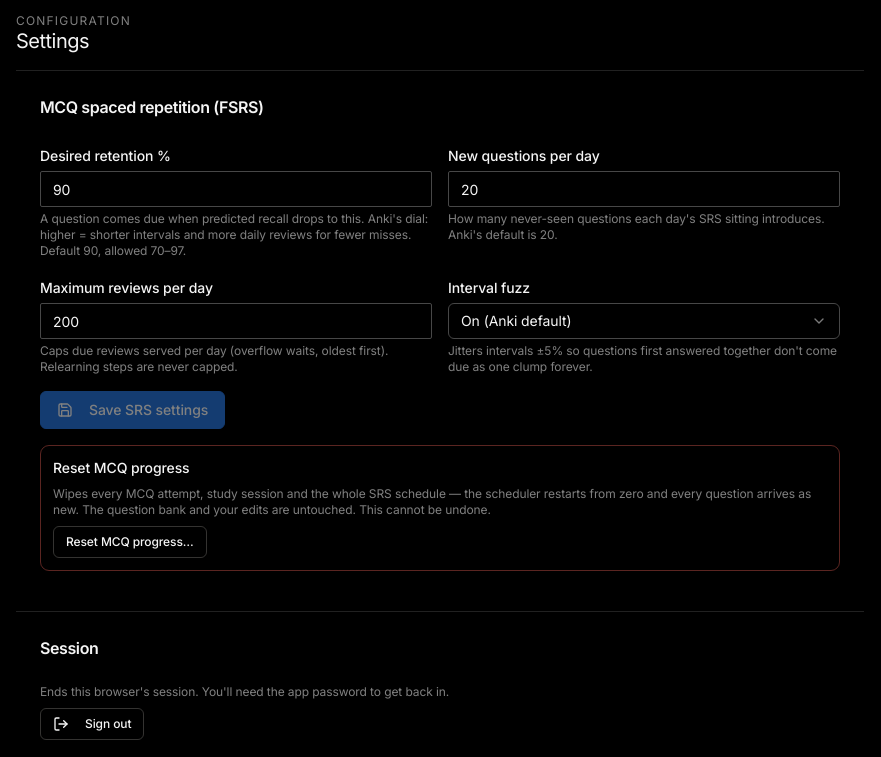
Test case: Settings — MCQ spaced repetition card › PATCHes only the fields that changed
The width and height of the screenshot is (881, 757).
Step 1. Replace the text in the number field with test id "input-srs-new-per-day" with "30" → (644, 189), box [448, 171, 840, 207]
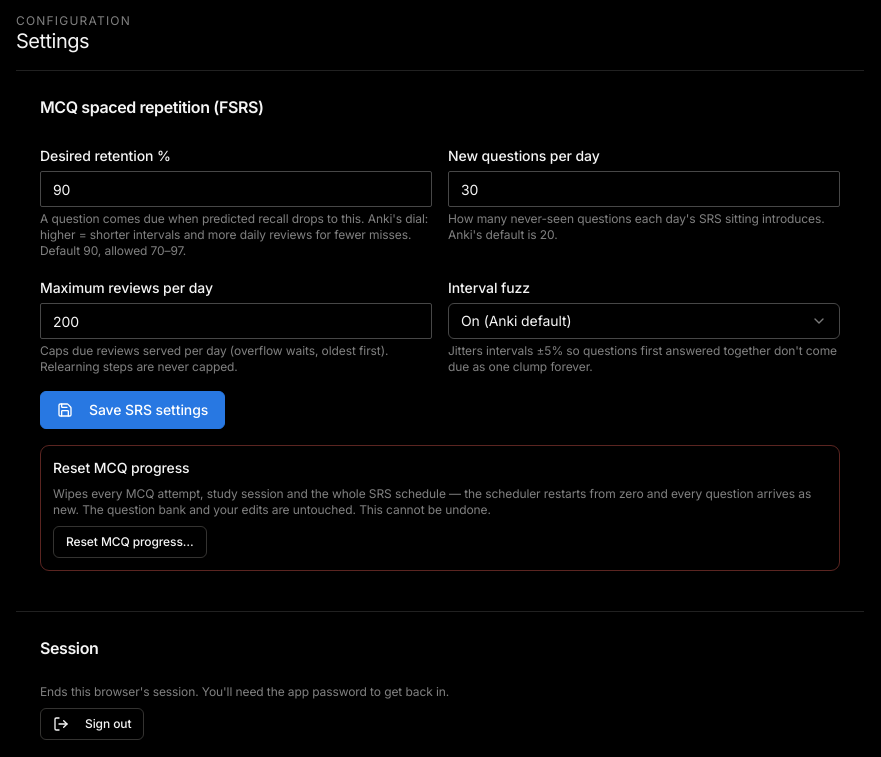
Step 2. Replace the text in the number field with test id "input-srs-max-reviews" with "150" → (236, 321), box [40, 303, 432, 339]
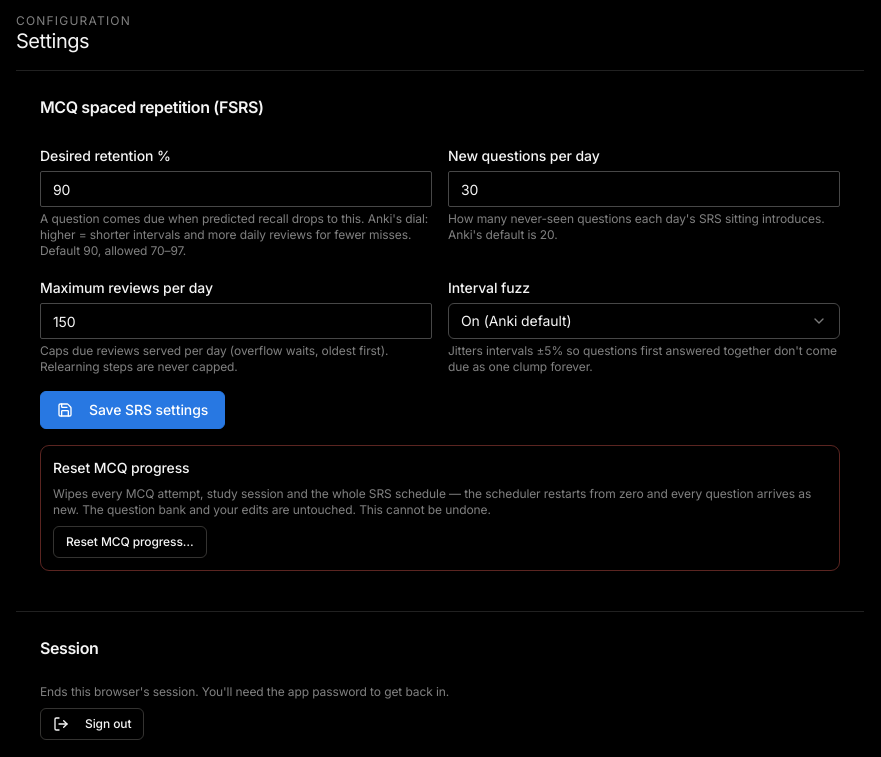
Step 3. Click the button with test id "button-save-srs" → (133, 410), box [40, 391, 225, 429]
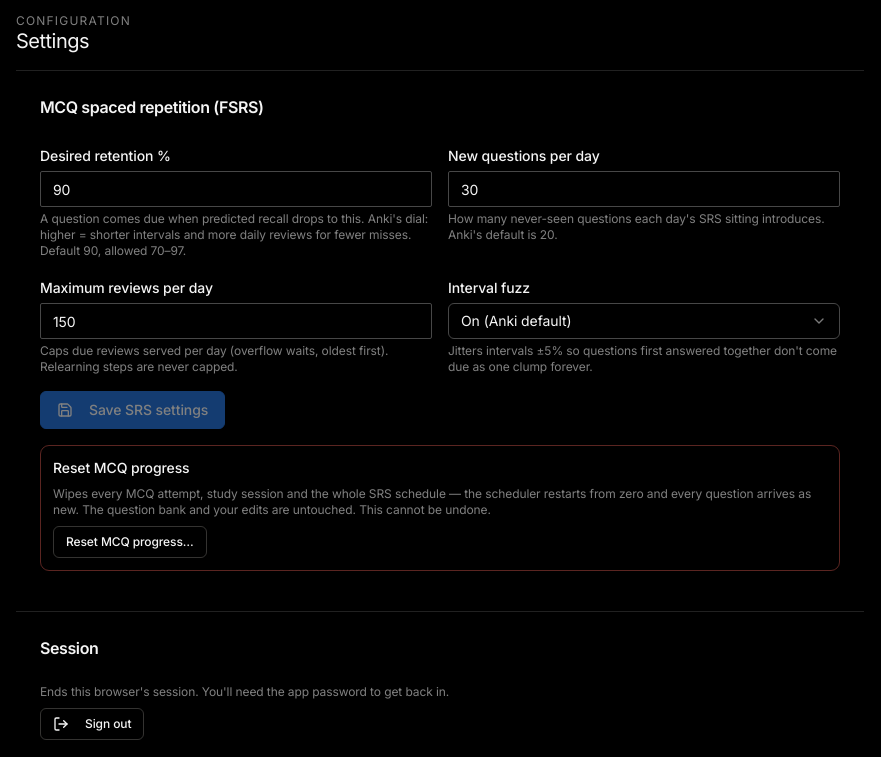
Expected: the button with test id "button-save-srs" is disabled, [40, 391, 225, 429]
